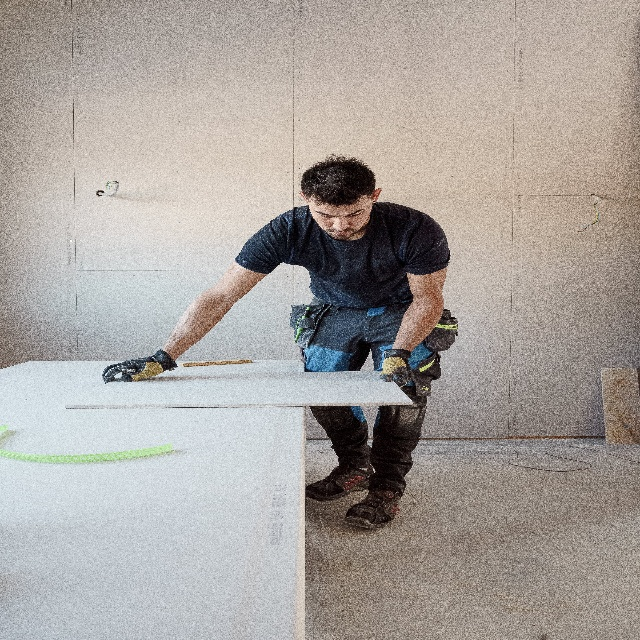Guantes: (100, 349, 176, 386), (384, 350, 412, 393)
